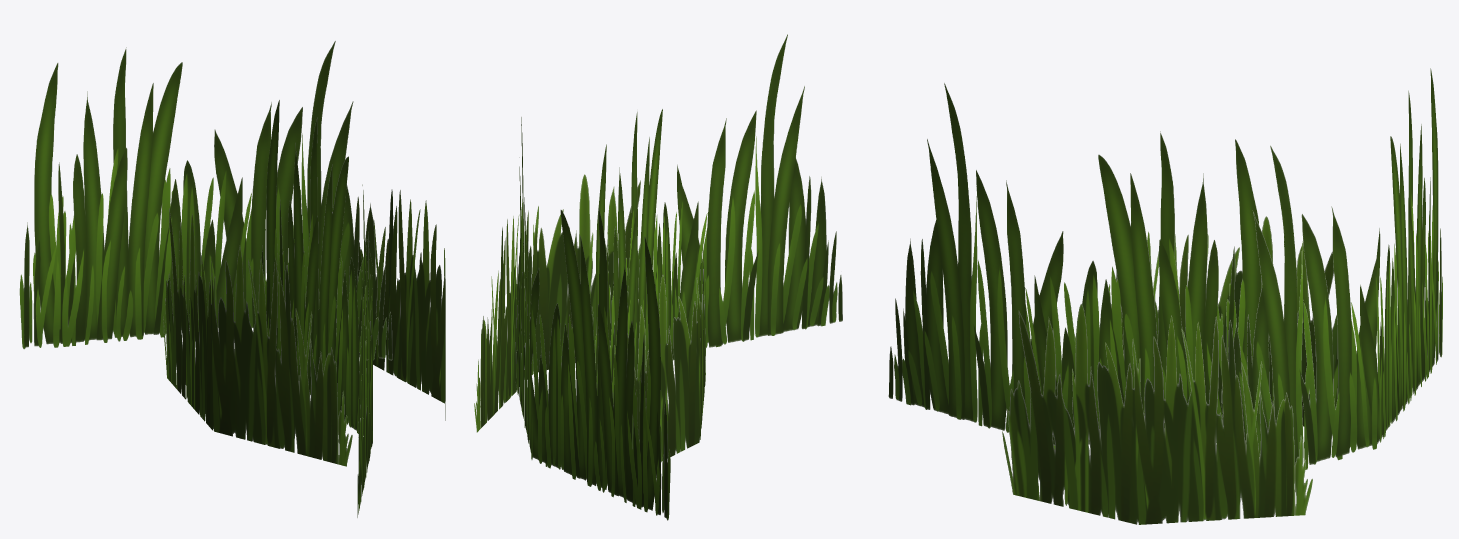
File: Grass1.FBX
3 renders of one model, left to right at view 1: azimuth 30°, elevation 25°; view 2: azimuth 150°, elevation 25°; view 3: azimuth 270°, elevation 25°, orthographic. The views are drawn at different scales.
Visible parts, largest first — view 1: Grass; view 2: Grass; view 3: Grass.
Boxes of the visible parts, x1,y1,x2,y2 form: Grass: [19, 41, 445, 517]; Grass: [474, 34, 842, 520]; Grass: [888, 68, 1442, 524].
Bounding box in the file's own units: 29.17 × 32.4 × 46.09.
Materials: 1 (1 with a texture image).
